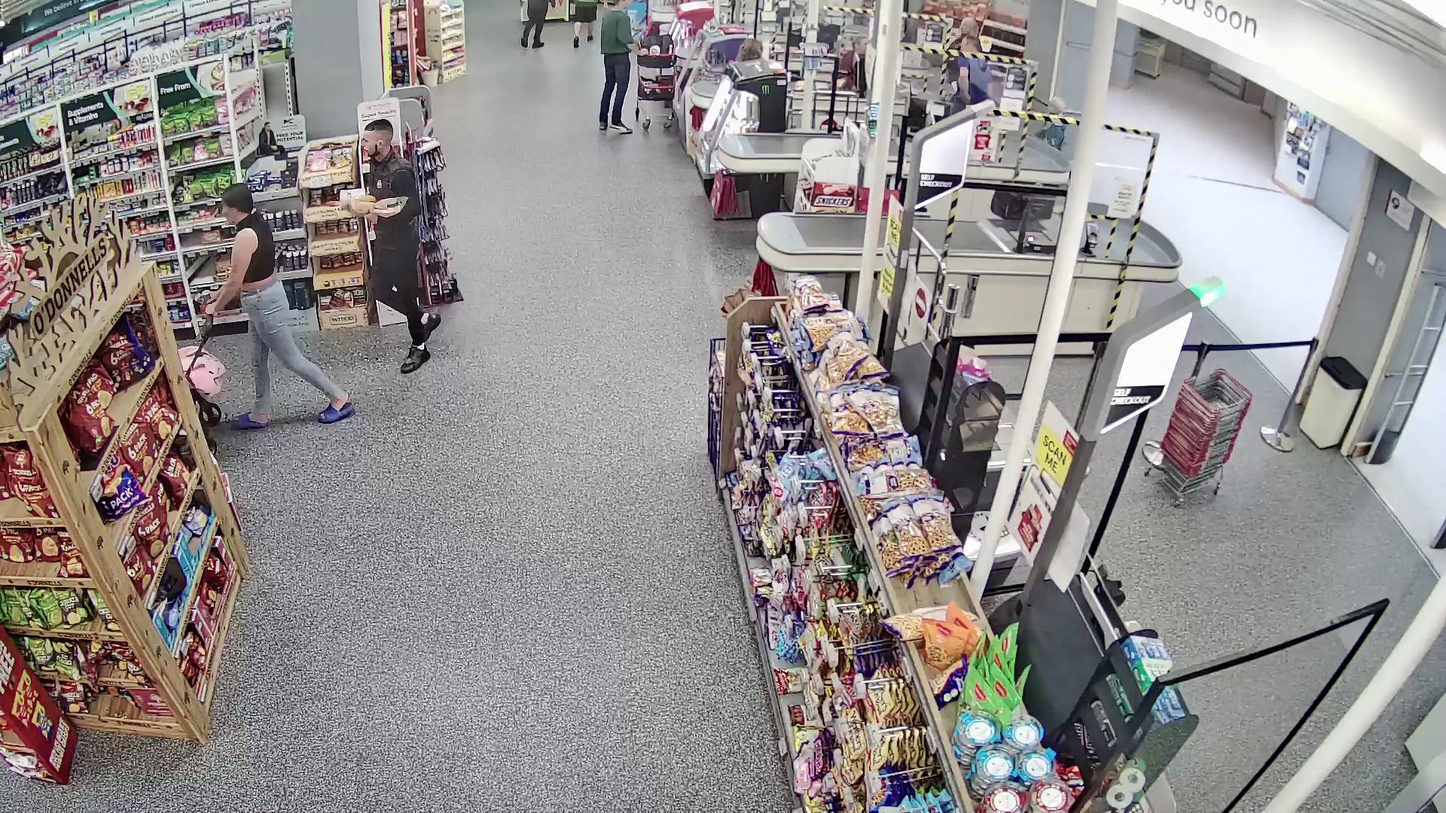carrying-item: (339, 187, 410, 219)
person: (361, 119, 442, 375)
person-with-carrying-item: (340, 118, 444, 375)
